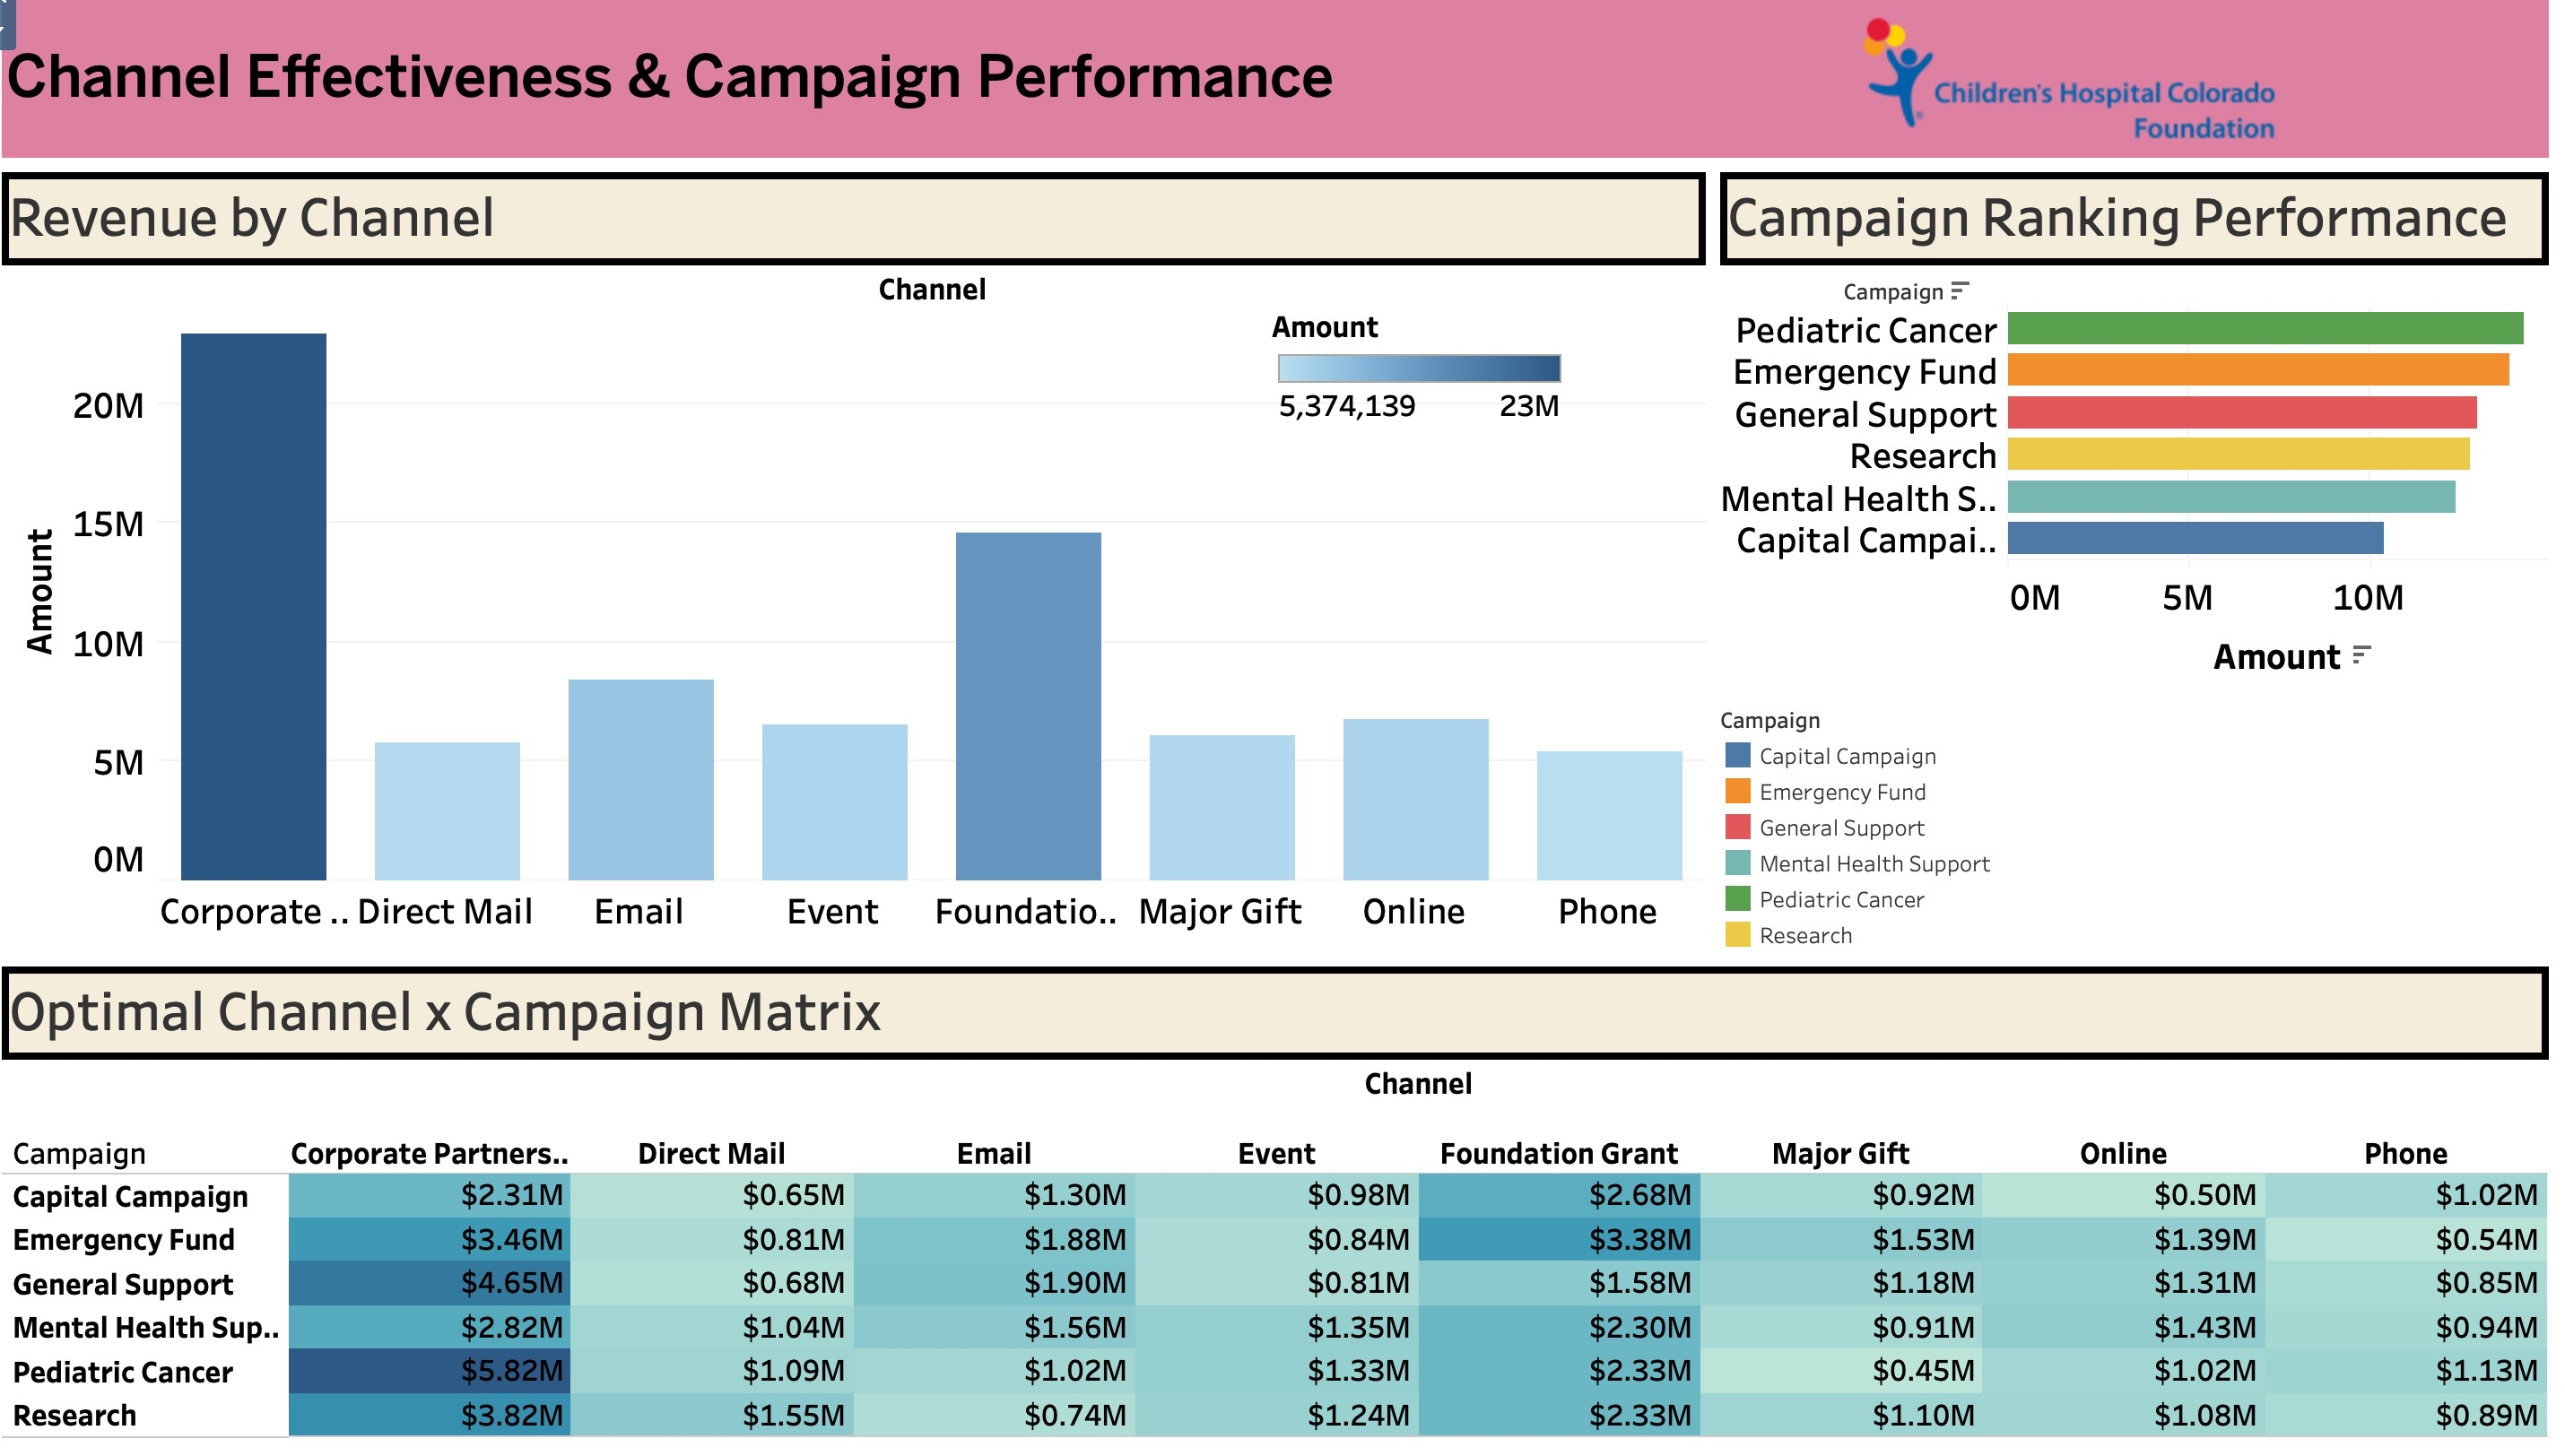

This screenshot's page, from the dashboard's own definition file:
{"tool":"tableau","page":{"name":"Channel Campaign Analysis","canvas":[1000,1000],"units":"permille","ordinal":1},"visuals":[{"type":"title","box":[5.5,9.7,988.9,118.4]},{"type":"image","param":"Image/Foundation_Logo_4C.png","box":[726.3,25.4,259.5,90.6]},{"type":"worksheet","title":"ChannelRevenueBar","mark":"Automatic","rows":["Amount"],"cols":["Channel"],"box":[5.5,128,663.4,535.2]},{"type":"worksheet","title":"Campaign_Revenue_Bar","mark":"Automatic","rows":["Campaign"],"cols":["Amount"],"box":[669,128,325.5,358.9]},{"type":"legend","title":"ChannelRevenueBar","param":"[federated.0wil2p61om5l3v1eiwfif1h1vznt].[sum:Amount:qk]","box":[498.4,223.4,114.7,91.8]},{"type":"legend","title":"Campaign_Revenue_Bar","param":"[federated.0wil2p61om5l3v1eiwfif1h1vznt].[none:Campaign:nk]","box":[669,486.9,325.5,176.3]},{"type":"worksheet","title":"Campaign_Channel_Heatmap","mark":"Square","rows":["Campaign"],"cols":["Channel"],"box":[5.5,663.2,988.9,327.1]}]}

Visuals, with their boxes on the dashboard's canvas, which has no fixed pixel size, in thousandths of its width and height (x1, y1, x2, y2). These are canvas units, not pixel positions in the 2565x1456 screenshot, which may show the page scaled, cropped or inside an application window:
title: region(6, 10, 994, 128)
image: region(726, 25, 986, 116)
"ChannelRevenueBar" worksheet: region(6, 128, 669, 663)
"Campaign_Revenue_Bar" worksheet: region(669, 128, 994, 487)
"ChannelRevenueBar" legend: region(498, 223, 613, 315)
"Campaign_Revenue_Bar" legend: region(669, 487, 994, 663)
"Campaign_Channel_Heatmap" worksheet (Square marks): region(6, 663, 994, 990)
